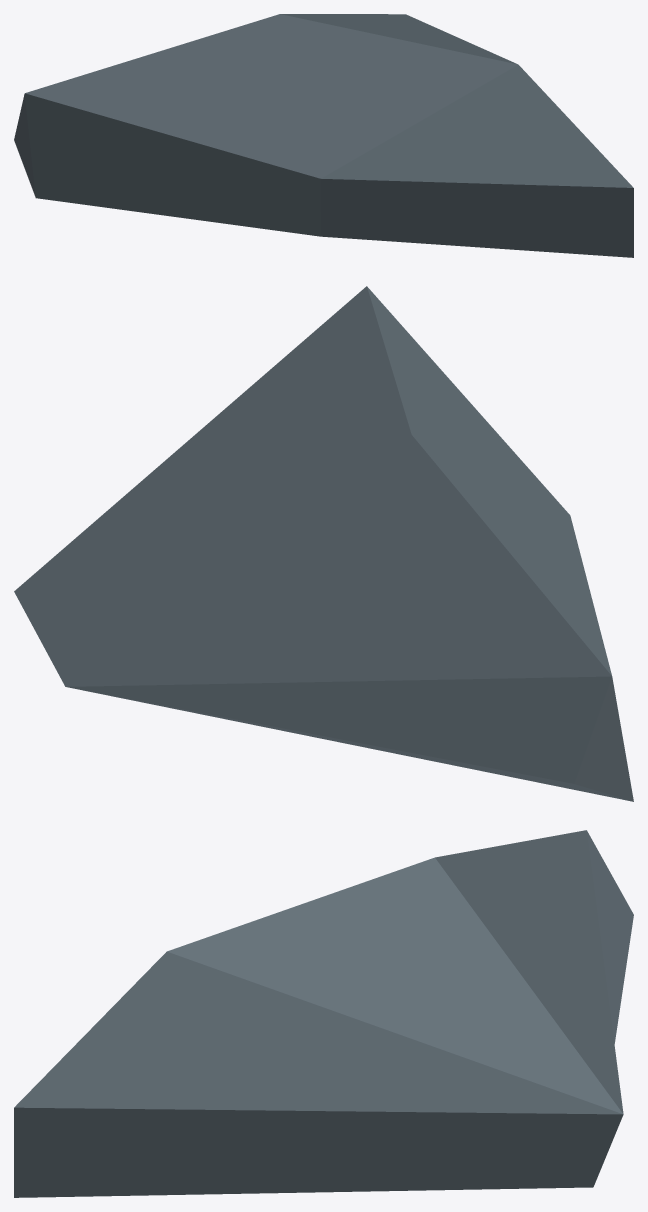
File: rock_1.glb
The picture shows the model from 3 angles, top to bottom: view 1: azimuth 30°, elevation 25°; view 2: azimuth 150°, elevation 25°; view 3: azimuth 270°, elevation 25°; orthographic projection. The views are drawn at different scales.
Visible parts, largest first — view 1: rock_1; view 2: rock_1; view 3: rock_1.
Boxes of the visible parts, x1=… form: rock_1: x1=14, y1=14, x2=633, y2=257; rock_1: x1=14, y1=286, x2=633, y2=801; rock_1: x1=14, y1=830, x2=633, y2=1197.
Size of the model in its own units: 0.2003 by 0.0839 by 0.2102.
Materials: 1 (1 with a texture image).
